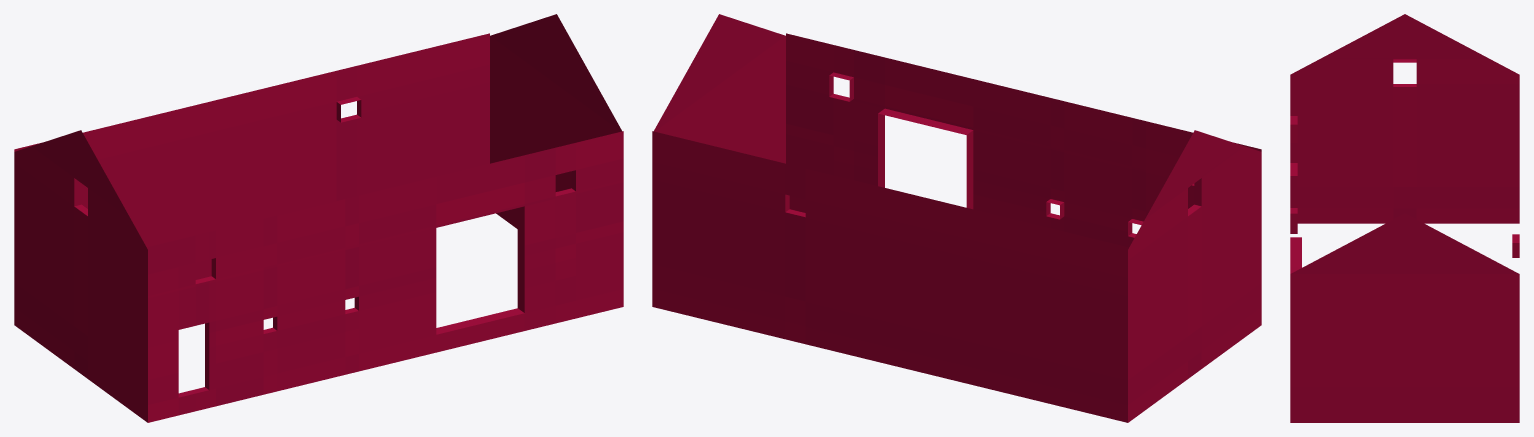
The model's file is SM_Bld_013_Masonry.glb.
3 renders of one model, left to right at view 1: azimuth 30°, elevation 25°; view 2: azimuth 150°, elevation 25°; view 3: azimuth 270°, elevation 25°, orthographic. The views are drawn at different scales.
Visible parts, largest first — view 1: SM_Bld_013_Masonry; view 2: SM_Bld_013_Masonry; view 3: SM_Bld_013_Masonry.
Part boxes in pixels (x1,y1,x2,y2): SM_Bld_013_Masonry: [14, 14, 623, 422]; SM_Bld_013_Masonry: [652, 14, 1261, 422]; SM_Bld_013_Masonry: [1290, 14, 1519, 422].
Bounding box in the file's own units: 13.97 × 6.85 × 6.8.
